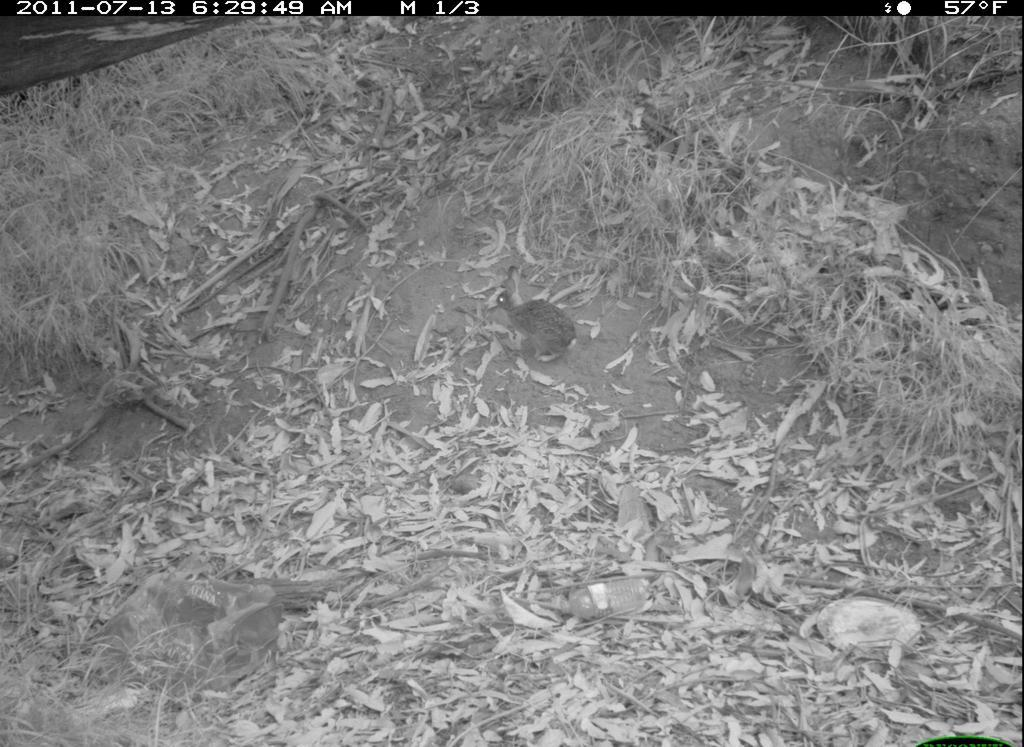rabbit: (493, 268, 597, 382)
